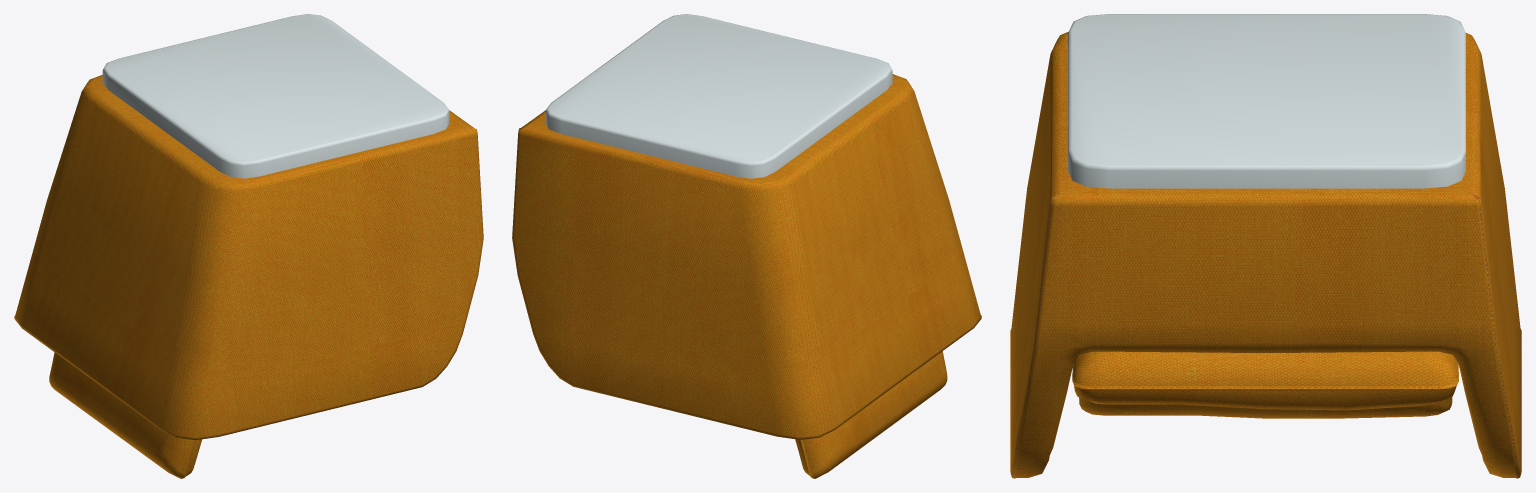
The model's file is chair_02.FBX.
3 renders of one model, left to right at view 1: azimuth 30°, elevation 25°; view 2: azimuth 150°, elevation 25°; view 3: azimuth 270°, elevation 25°, orthographic. The views are drawn at different scales.
Visible parts, largest first — view 1: chair_02; view 2: chair_02; view 3: chair_02.
Part boxes in pixels (left/top/right/bottom): chair_02: left=14, top=14, right=483, bottom=478; chair_02: left=512, top=14, right=981, bottom=478; chair_02: left=1010, top=14, right=1521, bottom=478.
Bounding box in the file's own units: 3.58 × 3.38 × 3.62.
3 materials, 2 textured.
